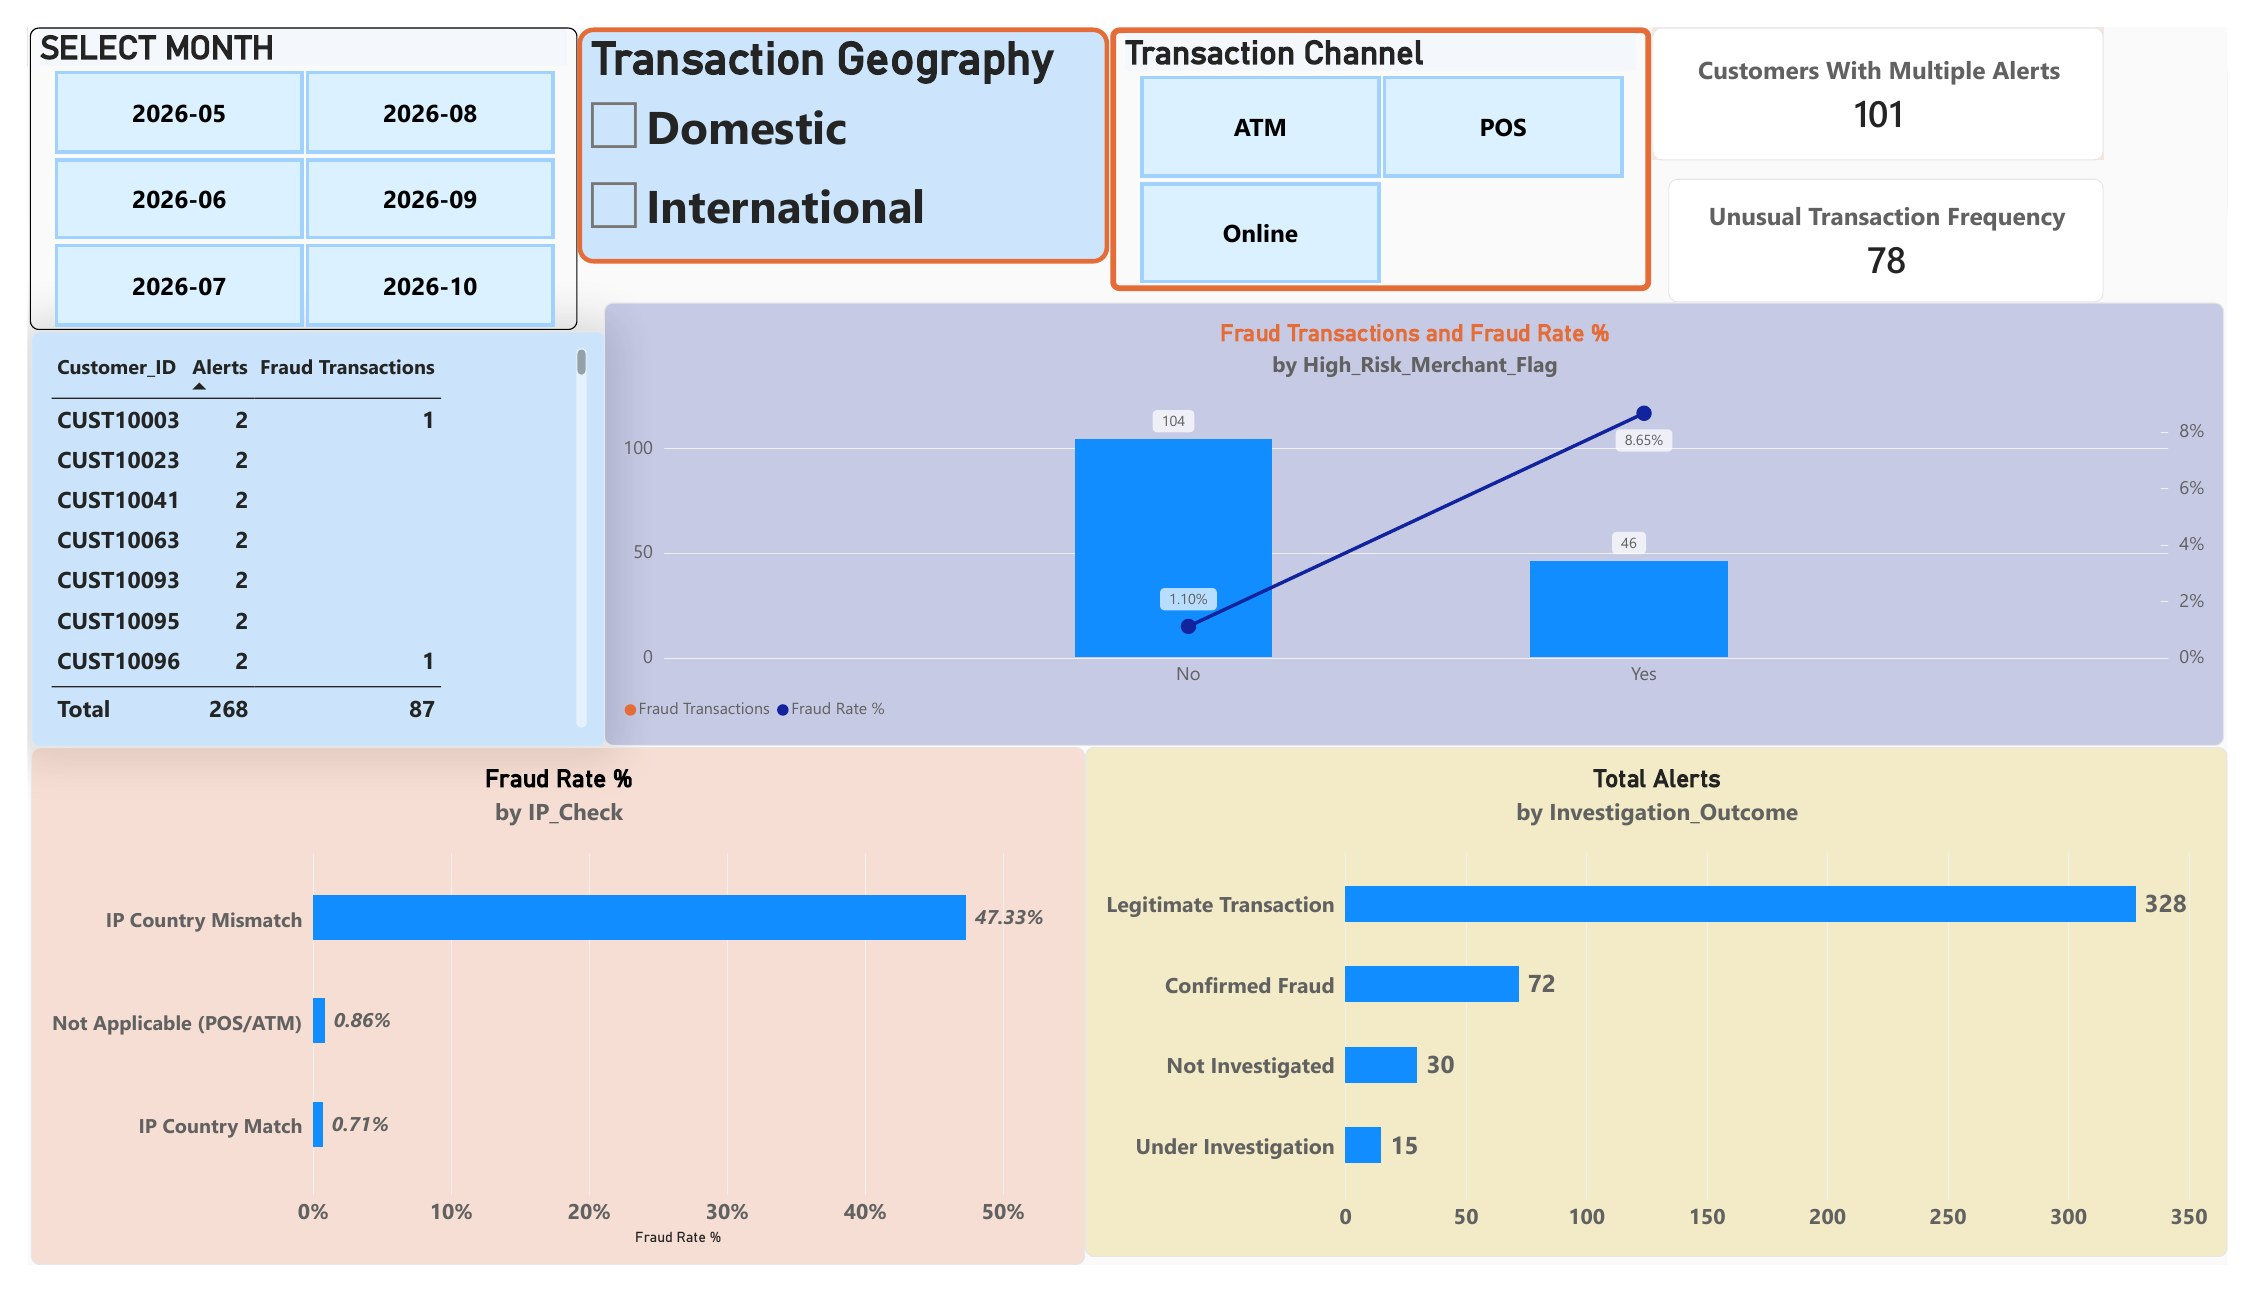

What the dashboard file says about the page in this screenshot:
{"tool":"powerbi","page":{"name":"Customer & Merchant Risk","canvas":[1920,1080],"ordinal":5},"visuals":[{"type":"tableEx","fields":{"Values":["cc.Customer_ID","cc.Total Alerts","cc.Fraud Transactions"]},"box":[2.5,265,502.5,362.5],"z":0},{"type":"clusteredBarChart","fields":{"Category":["cc.IP_Check"],"Y":["cc.Fraud Rate %"]},"box":[2.5,627.5,920,452.5],"z":1000},{"type":"lineClusteredColumnComboChart","fields":{"Category":["cc.High_Risk_Merchant_Flag"],"Y":["cc.Fraud Transactions"],"Y2":["cc.Fraud Rate %"]},"box":[502.9,240,1414.3,387.1],"z":2000},{"type":"clusteredBarChart","fields":{"Category":["cc.Investigation_Outcome"],"Y":["cc.Total Alerts"]},"box":[922.5,627.5,997.5,445],"z":3000},{"type":"cardVisual","fields":{"Data":["cc.Unusual Frequency Txns"]},"box":[1432,132,380,108],"z":4000},{"type":"cardVisual","fields":{"Data":["cc.Customers With Multiple Alerts"]},"box":[1418,0,394,116],"z":5000},{"type":"slicer","fields":{"Values":["cc.Txn_Month"]},"box":[2,0,478.4,264.5],"z":6000},{"type":"slicer","fields":{"Values":["cc.Transaction_Channel"]},"box":[945,0,471.7,230],"z":7000},{"type":"slicer","fields":{"Values":["cc.Domestic_International_Flag"]},"box":[480,0,464,206],"z":8000}]}

Visuals, with their boxes in screenshot pixels (x1, y1, x2, y2), scaled from the page's 1920x1080 canvas onto the 2255x1293 screenshot:
tableEx - cc.Customer_ID x cc.Total Alerts: (3, 317, 593, 751)
clusteredBarChart - cc.IP_Check x cc.Fraud Rate %: (3, 751, 1083, 1292)
lineClusteredColumnComboChart - cc.High_Risk_Merchant_Flag x cc.Fraud Transactions: (591, 287, 2252, 751)
clusteredBarChart - cc.Investigation_Outcome x cc.Total Alerts: (1083, 751, 2254, 1284)
cardVisual - cc.Unusual Frequency Txns: (1682, 158, 2128, 287)
cardVisual - cc.Customers With Multiple Alerts: (1665, 0, 2128, 139)
slicer - cc.Txn_Month: (2, 0, 564, 317)
slicer - cc.Transaction_Channel: (1110, 0, 1664, 275)
slicer - cc.Domestic_International_Flag: (564, 0, 1109, 247)
